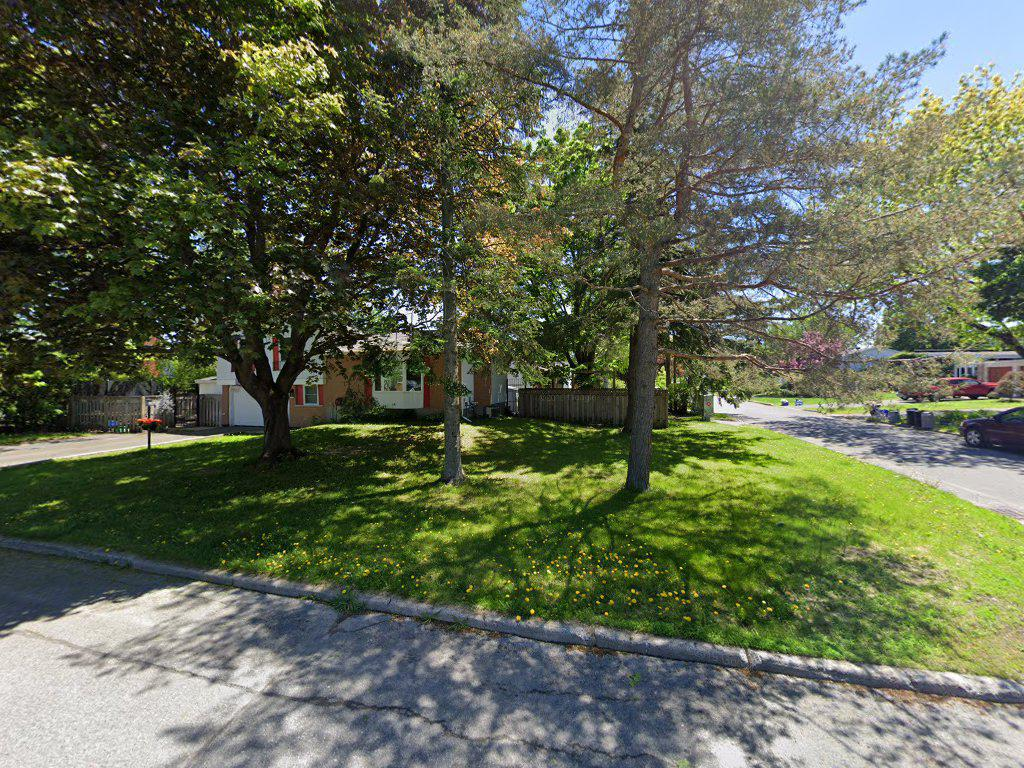trunk: (624, 281, 665, 503), (235, 347, 302, 461), (437, 283, 466, 488)
